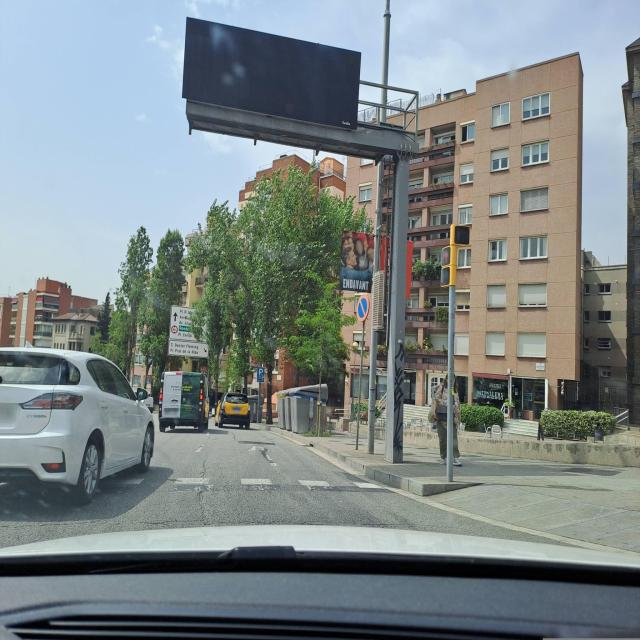forb_stopping: (357, 294, 370, 322)
